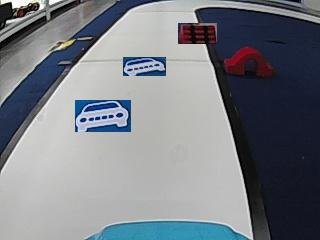bridge: (224, 46, 272, 77)
